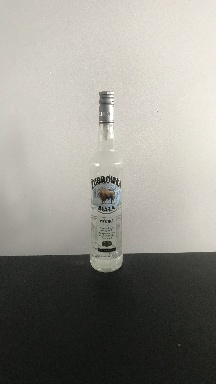butelka: (88, 88, 124, 275)
